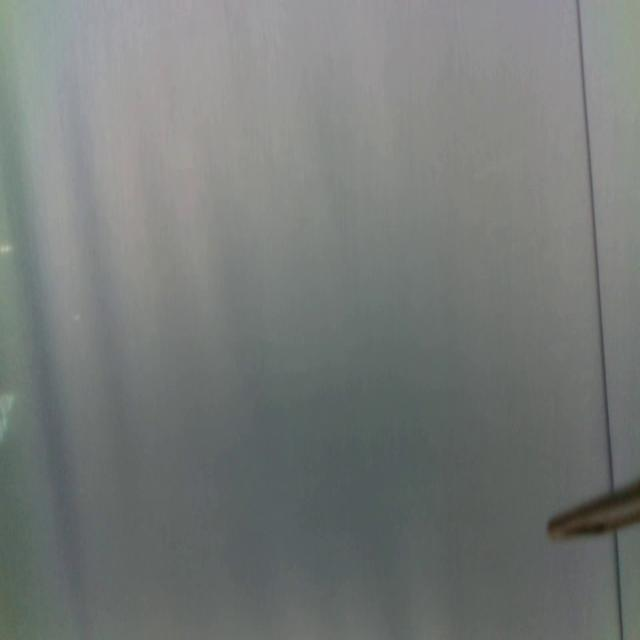crease: (576, 0, 615, 492), (613, 527, 625, 640)
